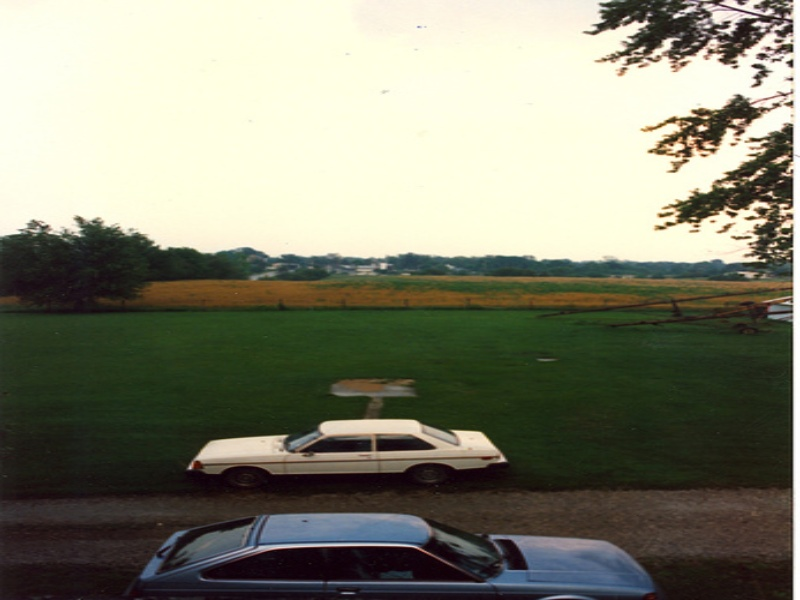car: (129, 513, 655, 600), (188, 418, 509, 492)
